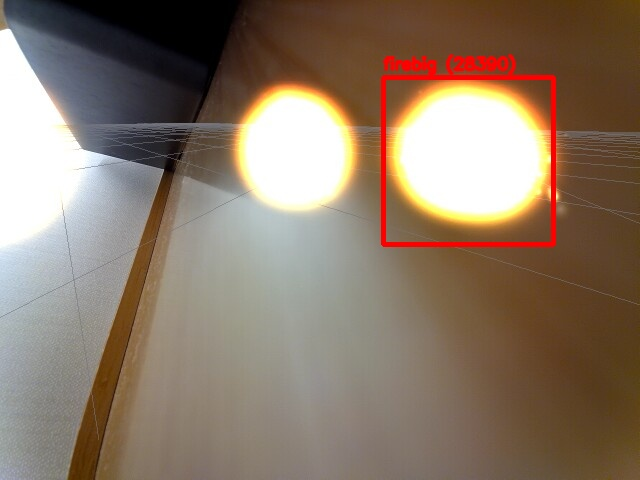firebig: (383, 77, 553, 244)
